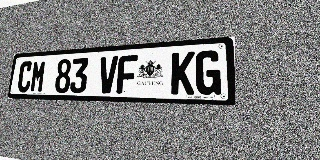3: (69, 58, 89, 93)
8: (54, 59, 72, 93)
C: (17, 61, 33, 92)
F: (116, 55, 138, 94)
G: (195, 50, 221, 95)
K: (171, 51, 195, 95)
M: (29, 60, 47, 93)
V: (98, 56, 118, 93)
